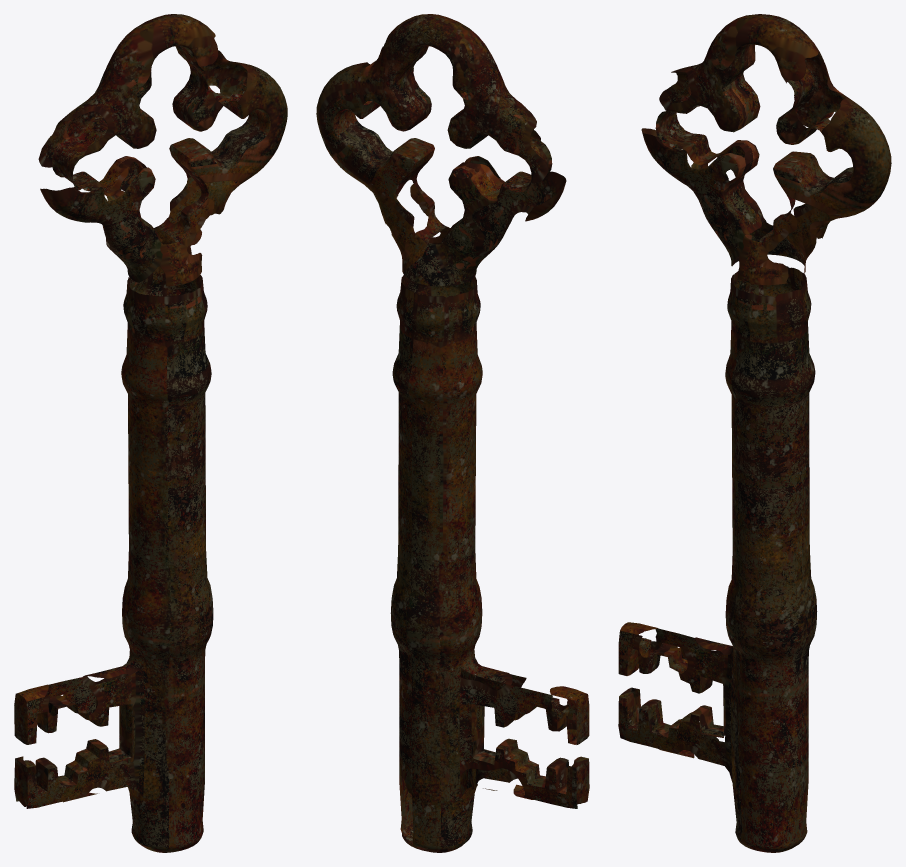
The model's file is Llave.fbx.
3 renders of one model, left to right at view 1: azimuth 30°, elevation 25°; view 2: azimuth 150°, elevation 25°; view 3: azimuth 330°, elevation 25°, orthographic.
Parts seen in each view (by area): view 1: Llave; view 2: Llave; view 3: Llave.
Part boxes in pixels (<box>): Llave: <box>14,14,287,852</box>; Llave: <box>316,14,589,852</box>; Llave: <box>618,14,891,852</box>.
Size of the model in its own units: 21.8 by 65.07 by 6.47.
